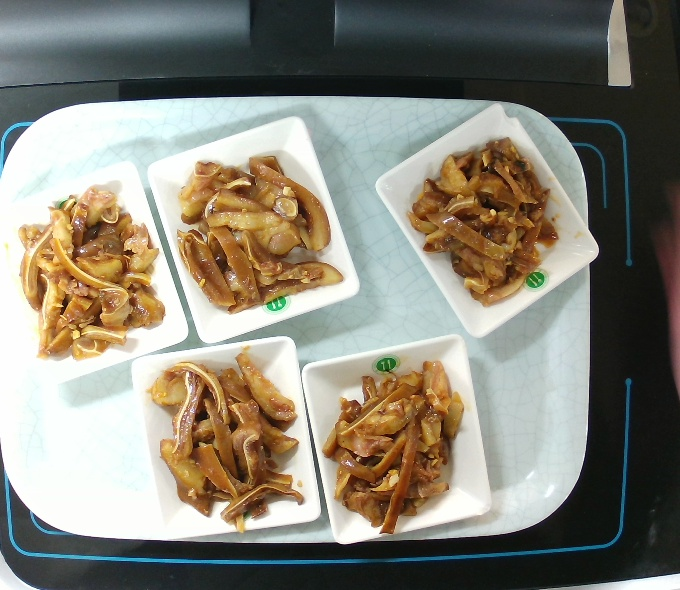wcq-ZhuErDuo: (315, 351, 473, 557), (142, 347, 305, 542), (173, 136, 345, 313), (399, 128, 563, 312), (15, 178, 172, 363)
